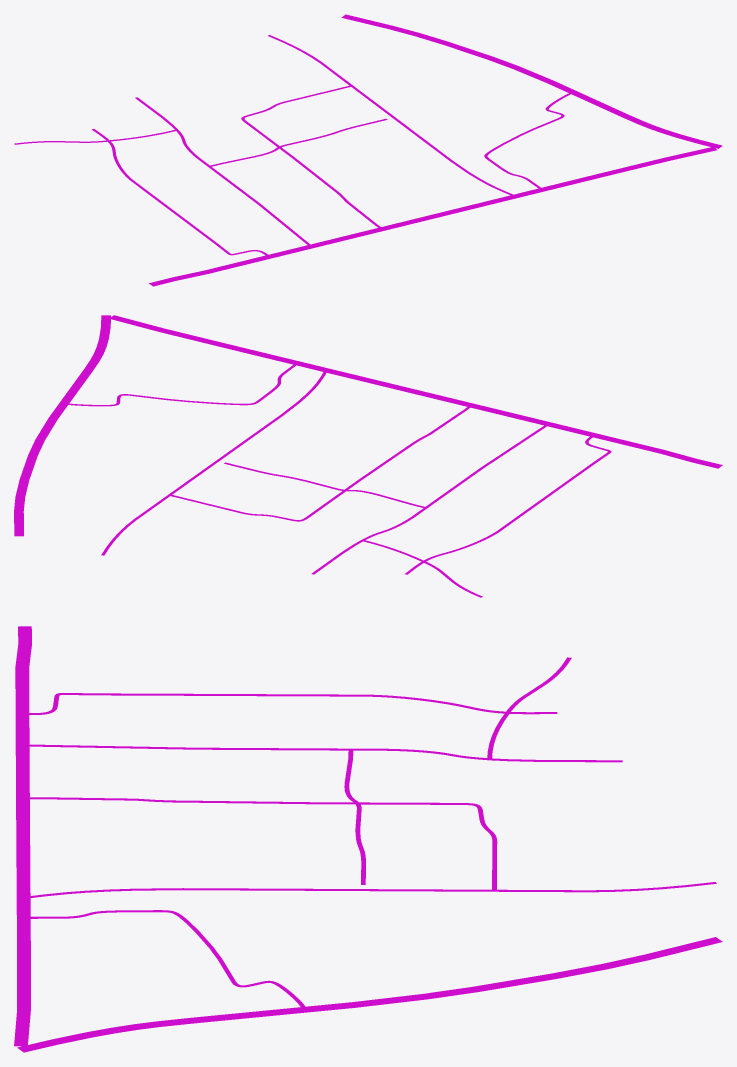
Rendered from DaoLuXian.fbx.
The picture shows the model from 3 angles, top to bottom: view 1: azimuth 30°, elevation 25°; view 2: azimuth 150°, elevation 25°; view 3: azimuth 270°, elevation 25°; orthographic projection. The views are drawn at different scales.
Visible parts, largest first — view 1: DaoLuXian; view 2: DaoLuXian; view 3: DaoLuXian.
Boxes of the visible parts, bbox=[...] form: DaoLuXian: bbox=[14, 14, 722, 286]; DaoLuXian: bbox=[14, 315, 722, 597]; DaoLuXian: bbox=[14, 626, 722, 1052].
Size of the model in its own units: 2919 by 7.09e-29 by 2051.
